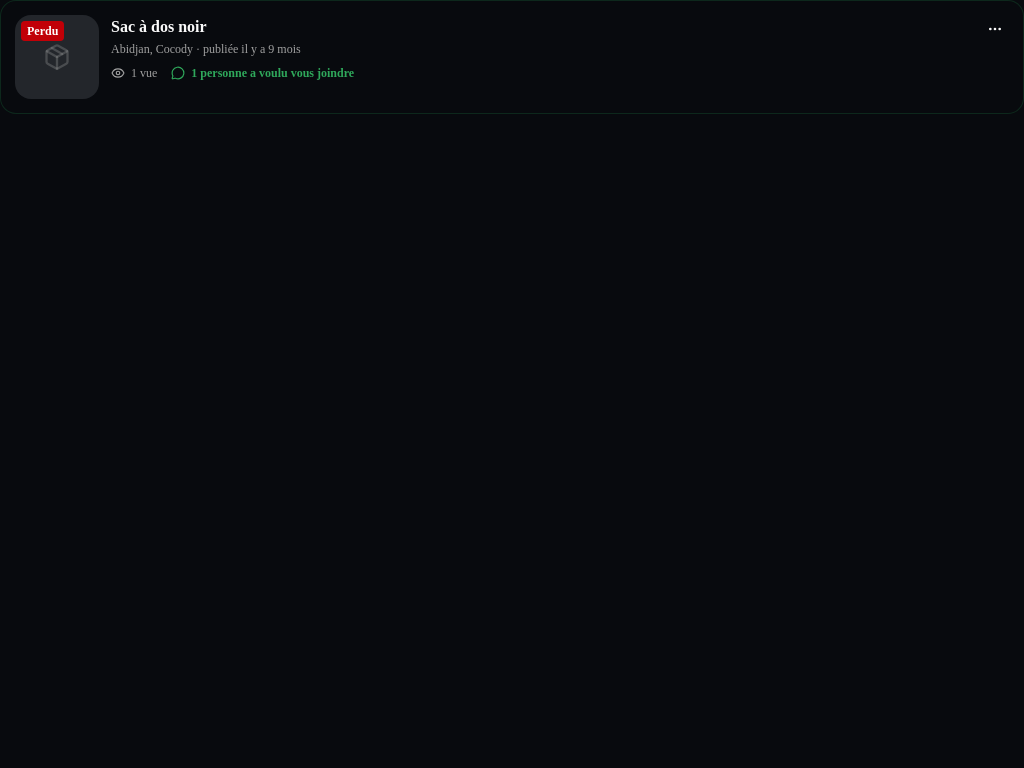
Test: ListingCard › lets a published listing be shared and viewed
The image size is (1024, 768).
Click the button named "Actions sur cette annonce".
click(995, 29)  # box [977,11,1013,47]
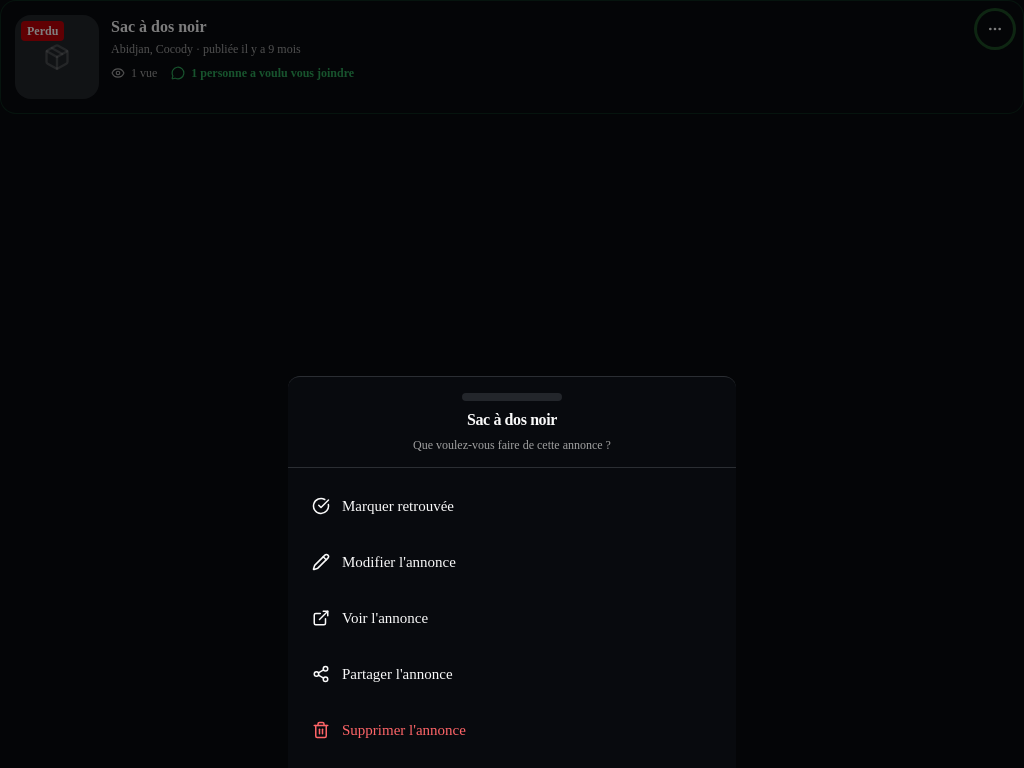
Now the button "Partager l'annonce" is shown, box [300,648,724,700]
